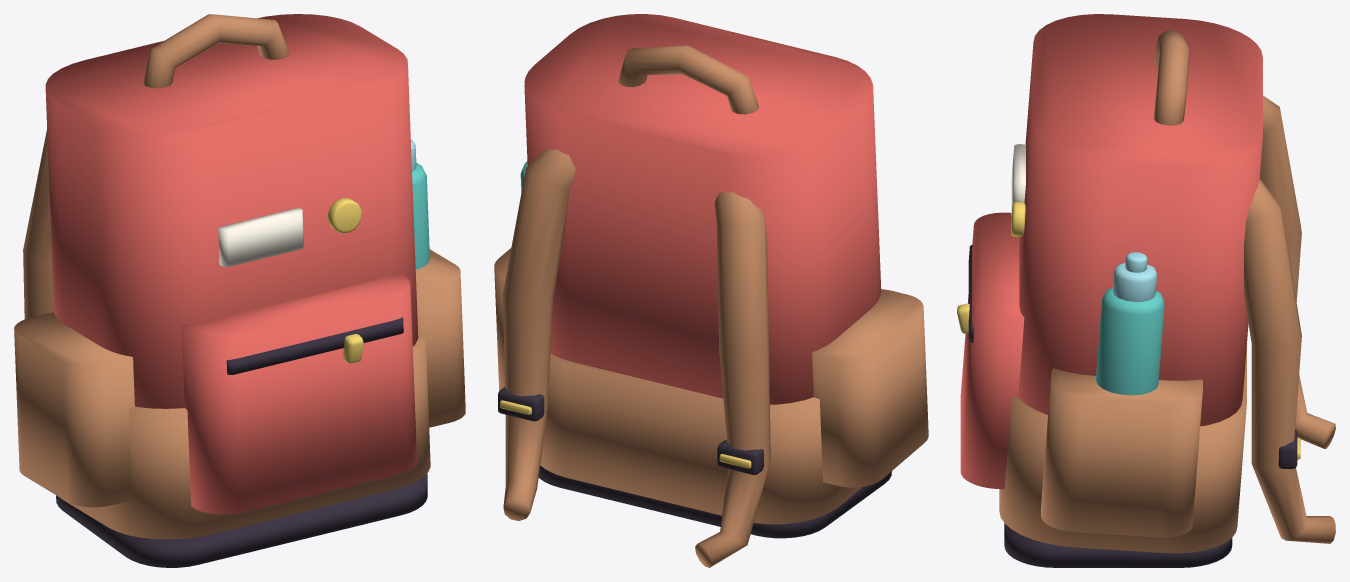
File: backpack-floor.glb
3 views of the same model, side by side, from view 1: azimuth 30°, elevation 25°; view 2: azimuth 150°, elevation 25°; view 3: azimuth 270°, elevation 25° (orthographic). The views are drawn at different scales.
Parts seen in each view (by area): view 1: ClutterBackpackFloor_MainPack, ClutterBackpackFloor_TerracottaTrim, ClutterBackpackFloor_BaseAndZippers, ClutterBackpackFloor_CreamBadge, ClutterBackpackFloor_WaterBottle, ClutterBackpackFloor_ButterHardware; view 2: ClutterBackpackFloor_MainPack, ClutterBackpackFloor_TerracottaTrim, ClutterBackpackFloor_BaseAndZippers, ClutterBackpackFloor_ButterHardware; view 3: ClutterBackpackFloor_MainPack, ClutterBackpackFloor_TerracottaTrim, ClutterBackpackFloor_WaterBottle, ClutterBackpackFloor_BaseAndZippers, ClutterBackpackFloor_BottleCap, ClutterBackpackFloor_ButterHardware, ClutterBackpackFloor_CreamBadge.
Boxes of the visible parts, left/top/right/bottom form: ClutterBackpackFloor_MainPack: left=45, top=14, right=418, bottom=514; ClutterBackpackFloor_TerracottaTrim: left=14, top=14, right=465, bottom=539; ClutterBackpackFloor_BaseAndZippers: left=56, top=317, right=427, bottom=567; ClutterBackpackFloor_CreamBadge: left=218, top=208, right=303, bottom=266; ClutterBackpackFloor_WaterBottle: left=412, top=162, right=429, bottom=269; ClutterBackpackFloor_ButterHardware: left=328, top=198, right=363, bottom=363; ClutterBackpackFloor_MainPack: left=524, top=14, right=881, bottom=404; ClutterBackpackFloor_TerracottaTrim: left=494, top=45, right=928, bottom=567; ClutterBackpackFloor_BaseAndZippers: left=498, top=387, right=891, bottom=538; ClutterBackpackFloor_ButterHardware: left=500, top=400, right=751, bottom=468; ClutterBackpackFloor_MainPack: left=960, top=14, right=1262, bottom=489; ClutterBackpackFloor_TerracottaTrim: left=999, top=30, right=1335, bottom=553; ClutterBackpackFloor_WaterBottle: left=1096, top=288, right=1164, bottom=395; ClutterBackpackFloor_BaseAndZippers: left=968, top=245, right=1297, bottom=567; ClutterBackpackFloor_BottleCap: left=1112, top=252, right=1157, bottom=301; ClutterBackpackFloor_ButterHardware: left=957, top=202, right=1300, bottom=459; ClutterBackpackFloor_CreamBadge: left=1011, top=144, right=1025, bottom=215.
Bounding box in the file's own units: 0.414 × 0.4641 × 0.3491.
